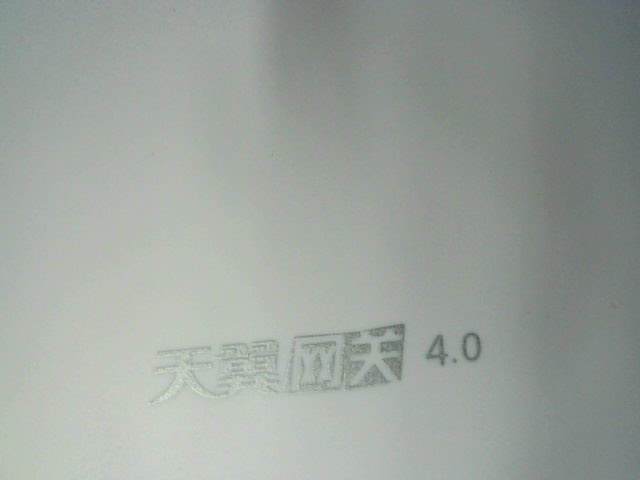BM_TianYiWangGuan: (143, 322, 484, 411)
